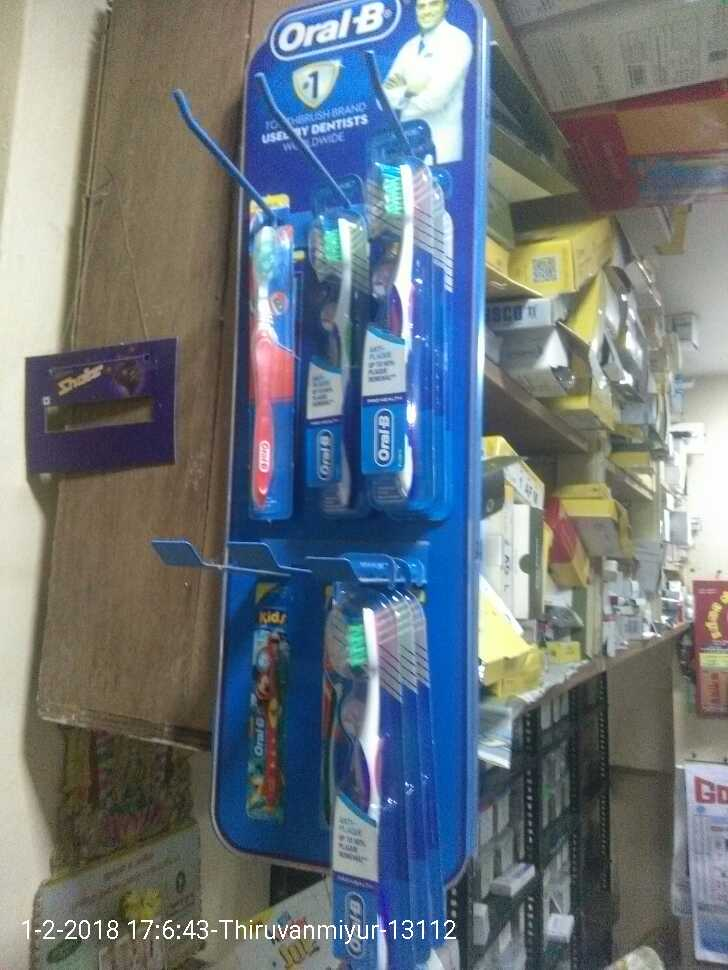oralb: (333, 589, 423, 970), (368, 157, 428, 496), (299, 212, 360, 486), (235, 223, 286, 508)
